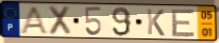5: (83, 6, 102, 37)
9: (110, 6, 133, 37)
A: (18, 5, 50, 35)
E: (171, 8, 197, 38)
K: (145, 8, 166, 38)
X: (47, 5, 73, 37)
